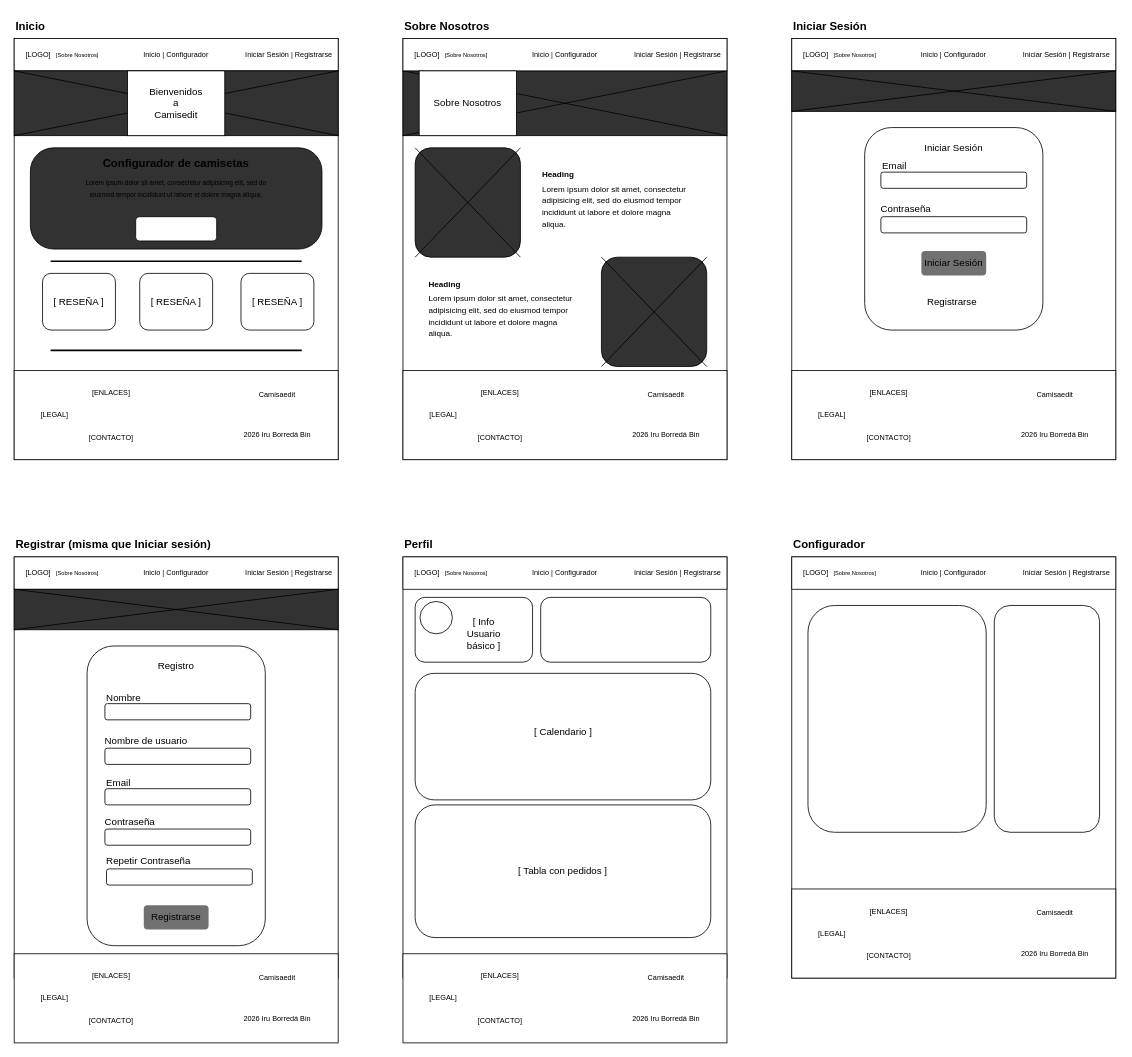
The diagram is 1132 pixels wide and 1057 high, and some of its shapes have lost their labels. Each missing label, with the box of its shape:
[ Info sobre pedidos más próximos ]: (540, 597, 711, 662)
[ Opciones ]: (993, 605, 1100, 832)
[ Previsualizador ]: (807, 605, 986, 832)
¡Pruébalo aquí!: (135, 216, 217, 241)
